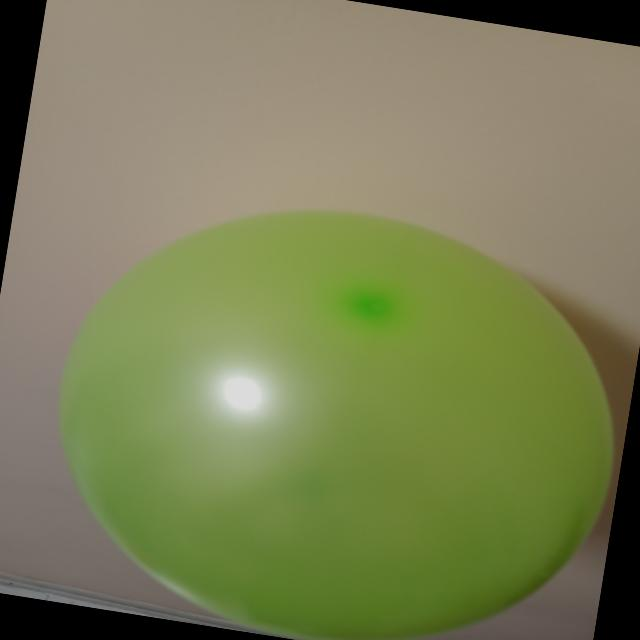balloon: (60, 212, 613, 640)
